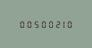five: (31, 20, 37, 28)
one: (59, 20, 65, 28)
two: (52, 20, 58, 28)
zero: (17, 20, 23, 28), (24, 20, 30, 28), (38, 20, 44, 28), (45, 20, 51, 28), (66, 20, 72, 28)
